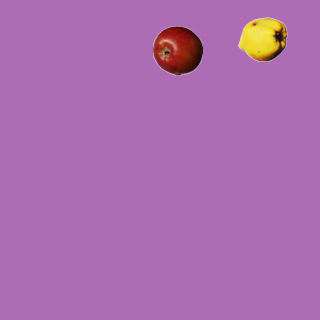Apple Braeburn: (152, 25, 202, 75)
Quince: (237, 14, 287, 64)
